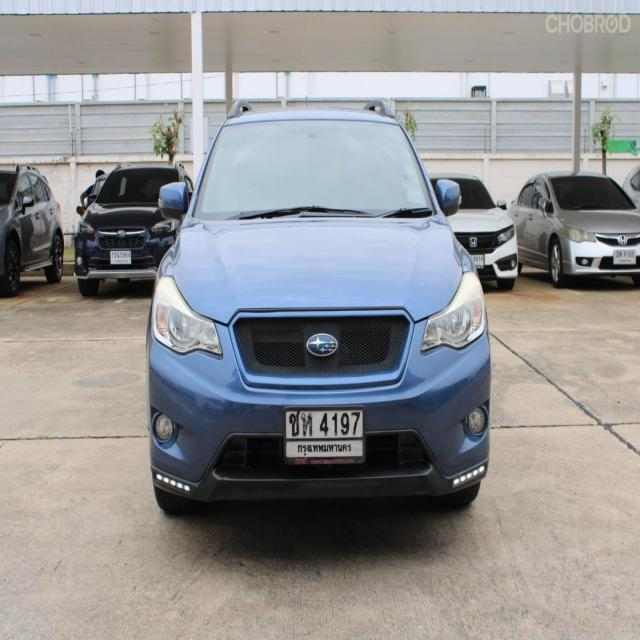license_plate: (284, 404, 367, 465), (613, 246, 637, 265), (466, 253, 486, 272), (110, 249, 132, 266)
